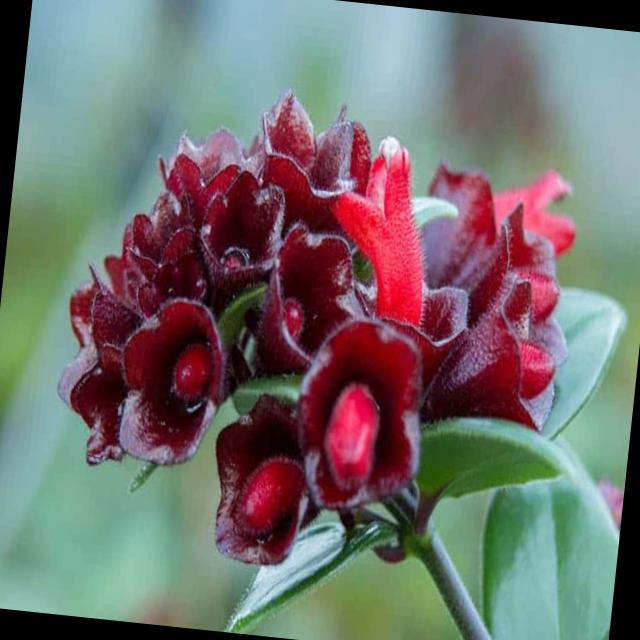Lipstick-Plant: (21, 63, 607, 566)
